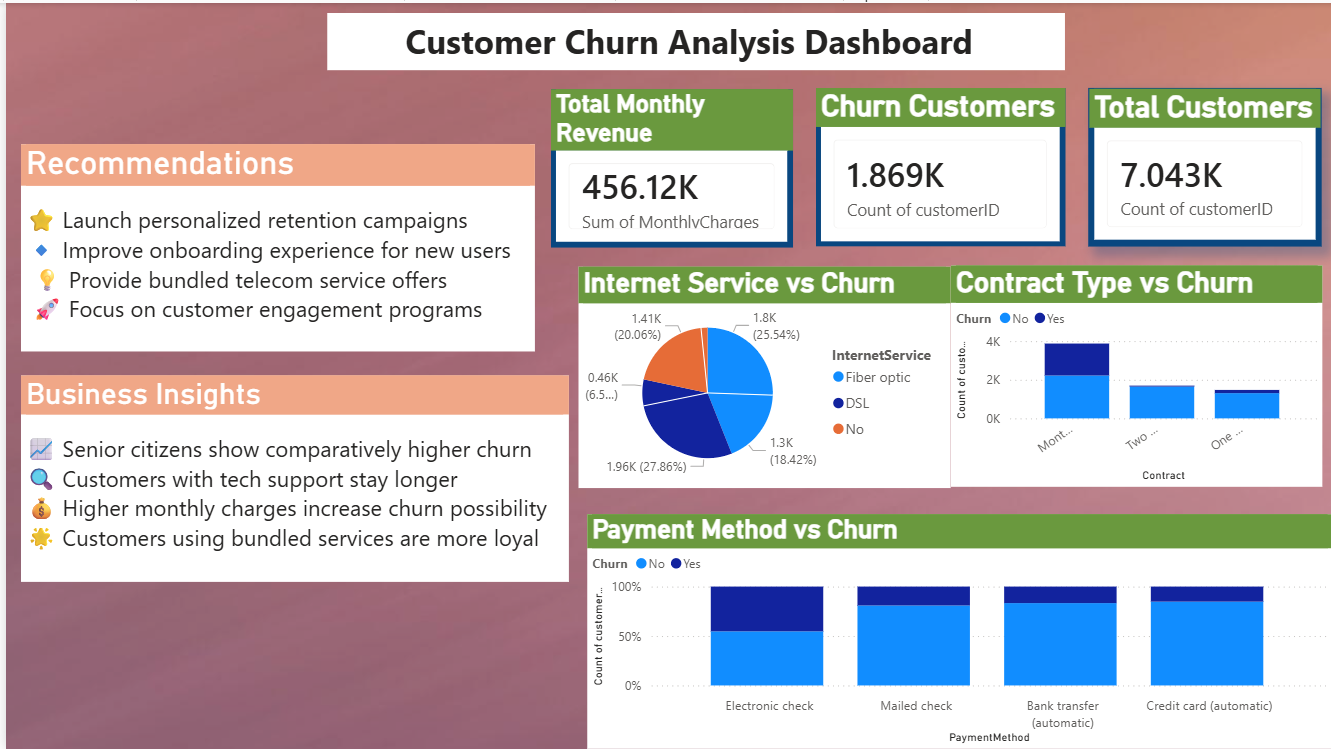

The page's visual inventory and layout, read from the dashboard file:
{"tool":"powerbi","page":{"name":"Page 1","canvas":[1280,720],"ordinal":0},"visuals":[{"type":"cardVisual","title":"Total Customers","fields":{"Data":["CountNonNull(WA_Fn-UseC_-Telco-Customer-Churn.customerID)"]},"box":[1044.3,81.9,225,152.9],"z":0},{"type":"cardVisual","title":"Churn Customers","fields":{"Data":["CountNonNull(WA_Fn-UseC_-Telco-Customer-Churn.customerID)"]},"box":[781.4,81.9,240.9,152.9],"z":1000},{"type":"cardVisual","title":"Total Monthly Revenue","fields":{"Data":["Sum(WA_Fn-UseC_-Telco-Customer-Churn.MonthlyCharges)"]},"box":[525.8,83.2,233.6,152.9],"z":2000},{"type":"columnChart","title":"Contract Type vs Churn","fields":{"Category":["WA_Fn-UseC_-Telco-Customer-Churn.Contract"],"Y":["CountNonNull(WA_Fn-UseC_-Telco-Customer-Churn.customerID)"],"Series":["WA_Fn-UseC_-Telco-Customer-Churn.Churn"]},"box":[912.1,253.4,358.3,213.5],"z":3000},{"type":"pieChart","title":"Internet Service vs Churn","fields":{"Category":["WA_Fn-UseC_-Telco-Customer-Churn.InternetService"],"Y":["CountNonNull(WA_Fn-UseC_-Telco-Customer-Churn.customerID)"],"Series":["WA_Fn-UseC_-Telco-Customer-Churn.Churn"]},"box":[552.5,254.6,359.5,213.5],"z":4000},{"type":"hundredPercentStackedColumnChart","title":"Payment Method vs Churn","fields":{"Category":["WA_Fn-UseC_-Telco-Customer-Churn.PaymentMethod"],"Y":["CountNonNull(WA_Fn-UseC_-Telco-Customer-Churn.customerID)"],"Series":["WA_Fn-UseC_-Telco-Customer-Churn.Churn"]},"box":[561.3,494,719,226.2],"z":5000},{"type":"textbox","title":"Business Insights","box":[14.5,359.5,528.4,199.1],"z":7000},{"type":"textbox","title":"Recommendations","box":[14.5,136.3,495.8,200.3],"z":8000},{"type":"textbox","box":[310.6,9.8,711.7,55],"z":8001}]}

Visuals, with their boxes in screenshot pixels (x1, y1, x2, y2), scaled from the page's 1280x720 canvas onto the 1331x749 screenshot:
"Total Customers" cardVisual: select_region(1086, 85, 1320, 244)
"Churn Customers" cardVisual: select_region(813, 85, 1063, 244)
"Total Monthly Revenue" cardVisual: select_region(547, 87, 790, 246)
"Contract Type vs Churn" columnChart: select_region(948, 264, 1321, 486)
"Internet Service vs Churn" pieChart: select_region(575, 265, 948, 487)
"Payment Method vs Churn" hundredPercentStackedColumnChart: select_region(584, 514, 1330, 748)
"Business Insights" textbox: select_region(15, 374, 565, 581)
"Recommendations" textbox: select_region(15, 142, 531, 350)
textbox: select_region(323, 10, 1063, 67)
